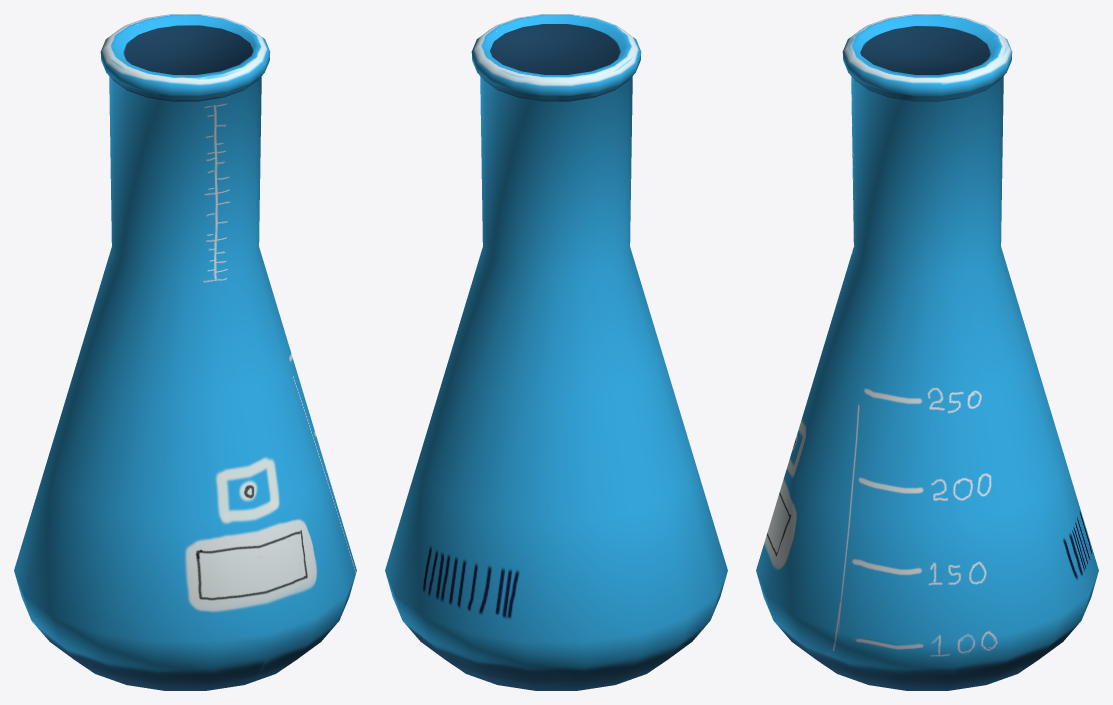
The model's file is Erlenmeyer_Fix_Scale.fbx.
The picture shows the model from 3 angles, left to right: view 1: azimuth 30°, elevation 25°; view 2: azimuth 150°, elevation 25°; view 3: azimuth 270°, elevation 25°; orthographic projection.
Visible parts, largest first — view 1: Cylinder.003; view 2: Cylinder.003; view 3: Cylinder.003.
Part boxes in pixels (x1,y1,x2,y2): Cylinder.003: (14,14,356,690); Cylinder.003: (385,14,727,690); Cylinder.003: (756,14,1098,690).
Size of the model in its own units: 15.34 by 29.87 by 15.58.
Materials: 1 (1 with a texture image).
